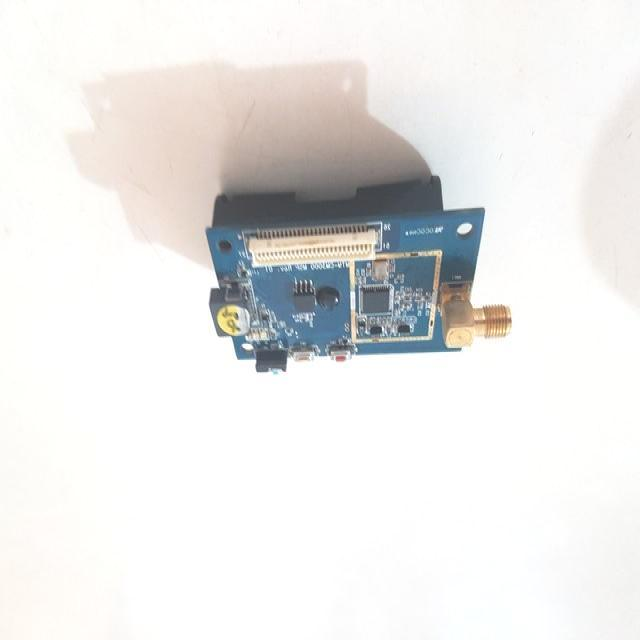TelosB: (207, 177, 512, 373)
